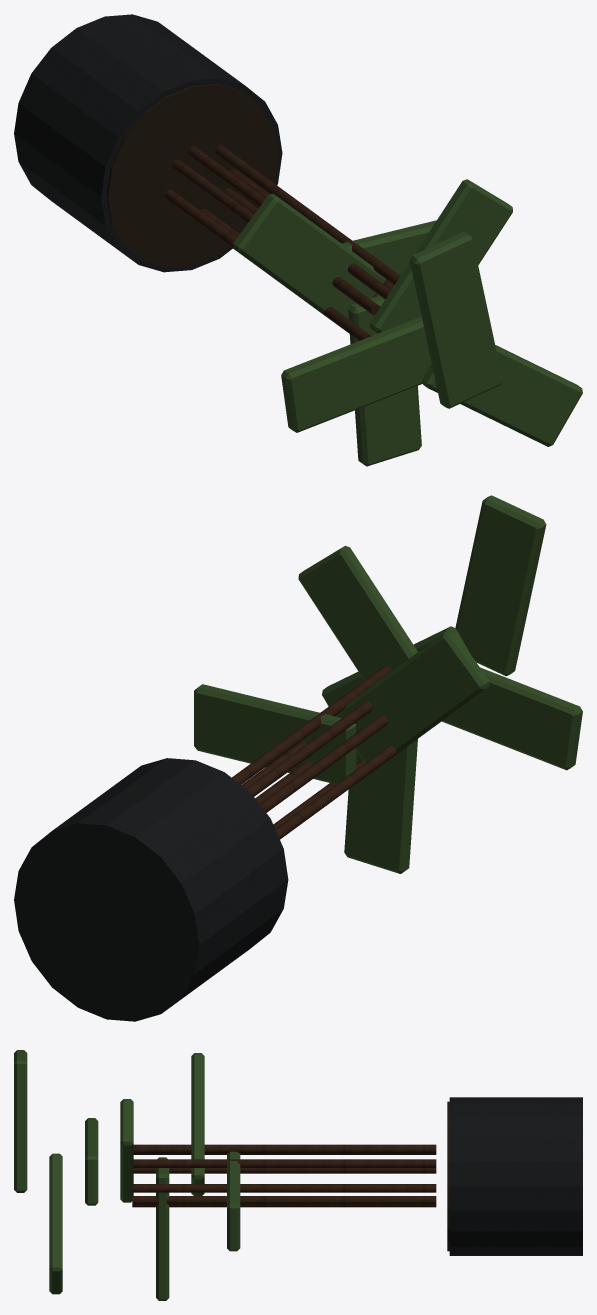
The model's file is outdoor_planter_695_302.obj.
3 views of the same model, one above another, from view 1: azimuth 30°, elevation 25°; view 2: azimuth 150°, elevation 25°; view 3: azimuth 270°, elevation 25° (orthographic). The views are drawn at different scales.
Parts seen in each view (by area): view 1: outdoor_planter_695_302_foliage, outdoor_planter_695_302_charcoal, outdoor_planter_695_302_soil, outdoor_planter_695_302_walnut; view 2: outdoor_planter_695_302_charcoal, outdoor_planter_695_302_foliage, outdoor_planter_695_302_walnut; view 3: outdoor_planter_695_302_charcoal, outdoor_planter_695_302_walnut, outdoor_planter_695_302_foliage, outdoor_planter_695_302_soil.
Part boxes in pixels (box(x1,y1,x2,y2)): outdoor_planter_695_302_foliage: box(233, 179, 582, 466); outdoor_planter_695_302_charcoal: box(14, 14, 282, 272); outdoor_planter_695_302_soil: box(106, 84, 278, 267); outdoor_planter_695_302_walnut: box(164, 145, 400, 340); outdoor_planter_695_302_charcoal: box(14, 758, 288, 1021); outdoor_planter_695_302_foliage: box(194, 495, 582, 873); outdoor_planter_695_302_walnut: box(232, 665, 442, 839); outdoor_planter_695_302_charcoal: box(449, 1097, 582, 1255); outdoor_planter_695_302_walnut: box(132, 1144, 436, 1207); outdoor_planter_695_302_foliage: box(14, 1050, 240, 1300); outdoor_planter_695_302_soil: box(447, 1101, 449, 1251).
Size of the model in its own units: 37.46 by 37.6 by 85.32.
Materials: 4 (4 with a texture image).
